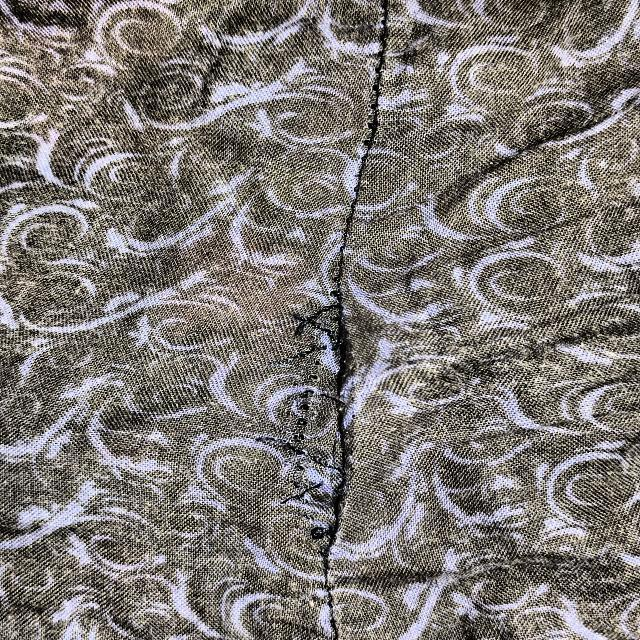gray stitch: (235, 246, 395, 609)
